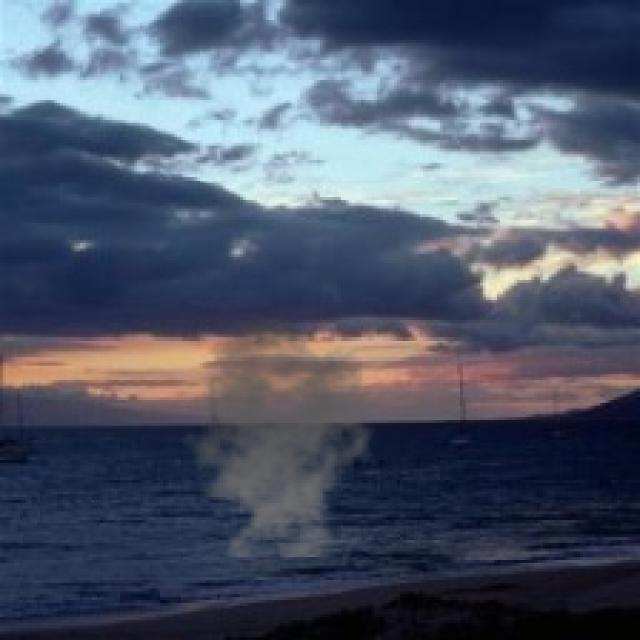smoke: (168, 314, 383, 557)
